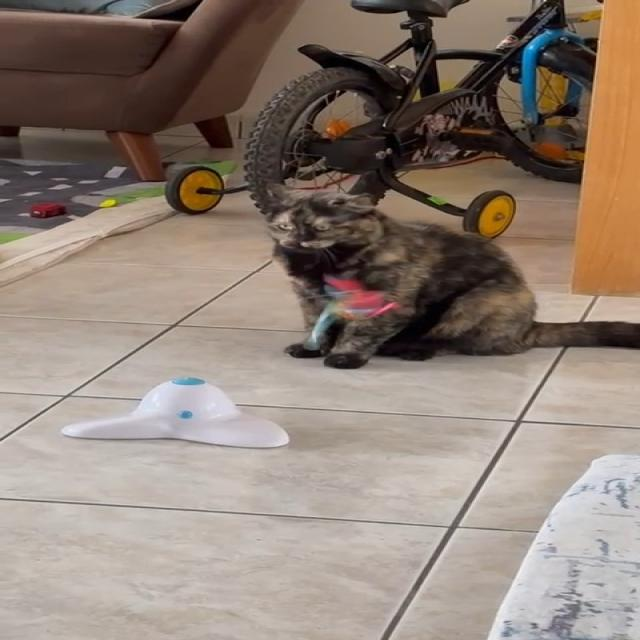authorized: (258, 183, 638, 368)
